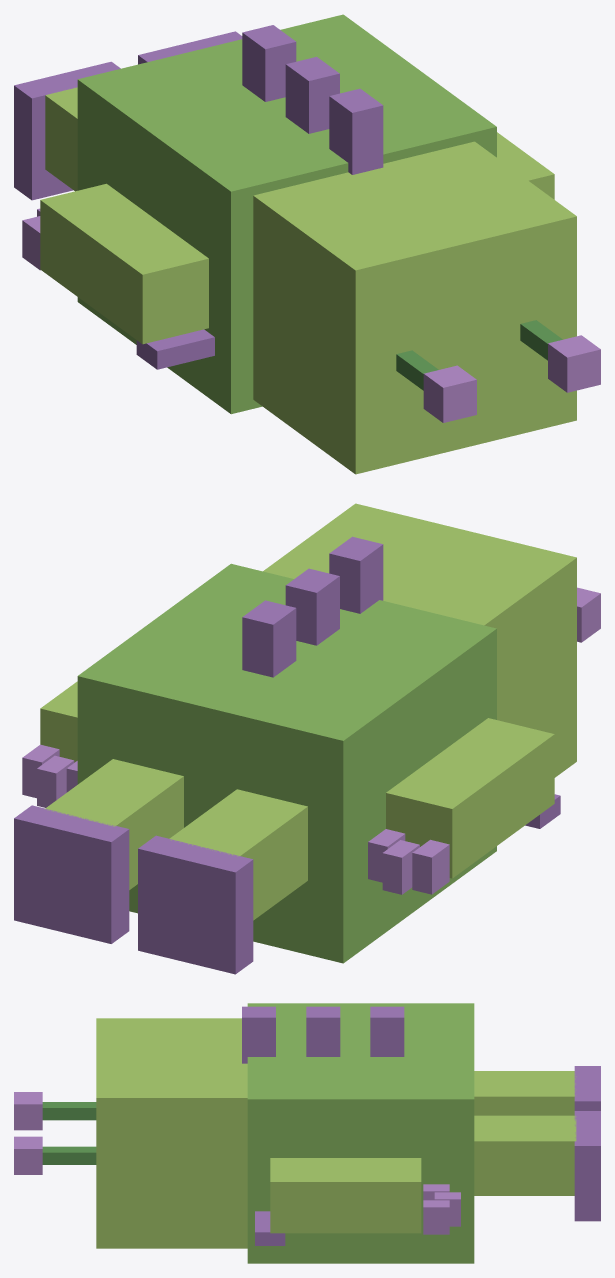
Rendered from glupix_player.glb.
3 views of the same model, one above another, from view 1: azimuth 30°, elevation 25°; view 2: azimuth 150°, elevation 25°; view 3: azimuth 270°, elevation 25° (orthographic). The views are drawn at different scales.
Visible parts, largest first — view 1: Cabeza_verde_lima, Cuerpo_verde, Brazo_izquierdo, Pie_izquierdo_morado, Espina_trasera_1, Espina_trasera_2, Espina_trasera_3, Pierna_izquierda, Punta_antena_izquierda_morada, Punta_antena_derecha_morada, Hombrera_izquierda_morada, Brazo_derecho (+4 smaller); view 2: Cuerpo_verde, Cabeza_verde_lima, Brazo_izquierdo, Pie_izquierdo_morado, Pie_derecho_morado, Pierna_izquierda, Pierna_derecha, Espina_trasera_3, Espina_trasera_1, Espina_trasera_2, Brazo_derecho, Garra_izq_1 (+5 smaller); view 3: Cuerpo_verde, Cabeza_verde_lima, Brazo_derecho, Pierna_derecha, Pierna_izquierda, Pie_derecho_morado, Espina_trasera_3, Espina_trasera_2, Espina_trasera_1, Pie_izquierdo_morado, Punta_antena_derecha_morada, Punta_antena_izquierda_morada (+5 smaller).
Part boxes in pixels (x1,y1,x2,y2): Cabeza_verde_lima: [253, 141, 576, 474]; Cuerpo_verde: [77, 14, 496, 414]; Brazo_izquierdo: [40, 183, 208, 344]; Pie_izquierdo_morado: [14, 61, 120, 200]; Espina_trasera_1: [329, 88, 383, 174]; Espina_trasera_2: [285, 56, 339, 133]; Espina_trasera_3: [242, 25, 296, 101]; Pierna_izquierda: [45, 87, 77, 191]; Punta_antena_izquierda_morada: [423, 365, 476, 422]; Punta_antena_derecha_morada: [548, 335, 600, 392]; Hombrera_izquierda_morada: [136, 329, 214, 369]; Brazo_derecho: [497, 132, 554, 199]; Cuerpo_verde: [77, 563, 496, 963]; Cabeza_verde_lima: [263, 503, 576, 777]; Brazo_izquierdo: [386, 718, 554, 878]; Pie_izquierdo_morado: [138, 835, 253, 974]; Pie_derecho_morado: [14, 805, 129, 943]; Pierna_izquierda: [169, 789, 307, 920]; Pierna_derecha: [44, 759, 183, 889]; Espina_trasera_3: [242, 600, 296, 677]; Espina_trasera_1: [329, 536, 383, 613]; Espina_trasera_2: [285, 568, 339, 645]; Brazo_derecho: [40, 681, 77, 762]; Garra_izq_1: [412, 839, 449, 894]; Cuerpo_verde: [247, 1003, 474, 1263]; Cabeza_verde_lima: [96, 1018, 247, 1248]; Brazo_derecho: [270, 1158, 421, 1233]; Pierna_derecha: [474, 1115, 576, 1195]; Pierna_izquierda: [474, 1071, 576, 1115]; Pie_derecho_morado: [574, 1111, 600, 1221]; Espina_trasera_3: [370, 1006, 404, 1056]; Espina_trasera_2: [306, 1006, 340, 1056]; Espina_trasera_1: [242, 1006, 275, 1063]; Pie_izquierdo_morado: [574, 1066, 600, 1110]; Punta_antena_derecha_morada: [14, 1136, 42, 1174]; Punta_antena_izquierda_morada: [14, 1092, 42, 1130].
Bounding box in the file's own units: 4.65 × 3.24 × 7.77.
